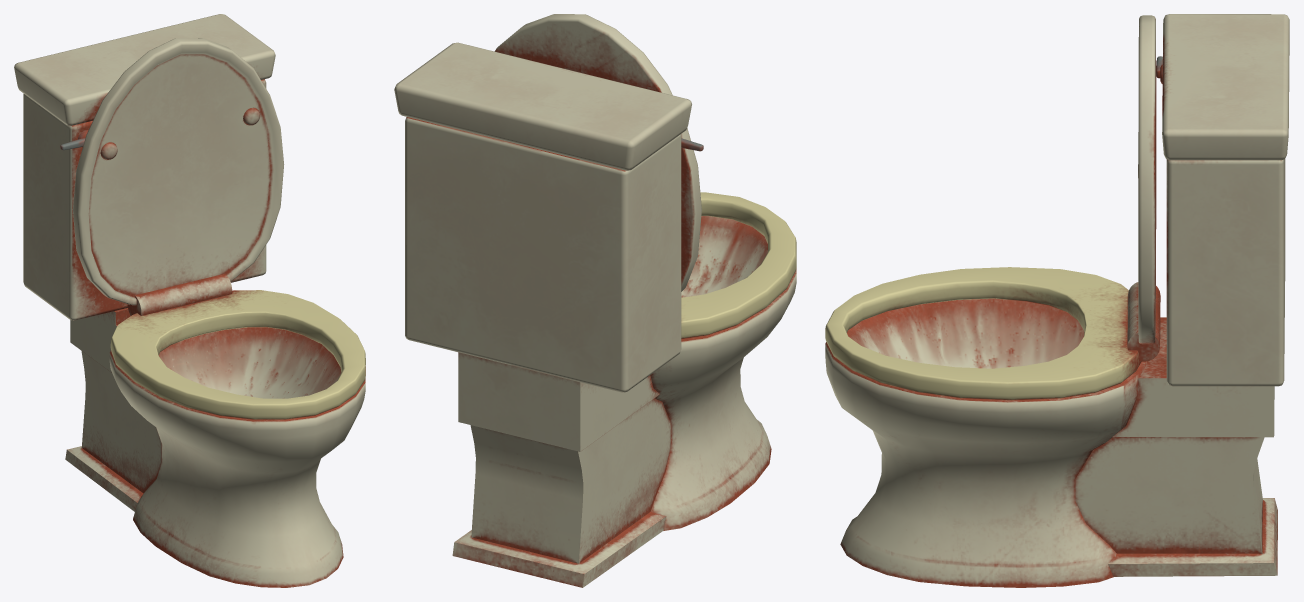
Rendered from Bathroom_Toilet.fbx.
3 renders of one model, left to right at view 1: azimuth 30°, elevation 25°; view 2: azimuth 150°, elevation 25°; view 3: azimuth 270°, elevation 25°, orthographic. The views are drawn at different scales.
Visible parts, largest first — view 1: Toilet2_low; view 2: Toilet2_low; view 3: Toilet2_low.
Part boxes in pixels (x1,y1,x2,y2): Toilet2_low: (14,14,365,587); Toilet2_low: (394,14,796,587); Toilet2_low: (825,14,1289,587).
Size of the model in its own units: 58.8 by 116 by 93.34.
Materials: 1 (1 with a texture image).
